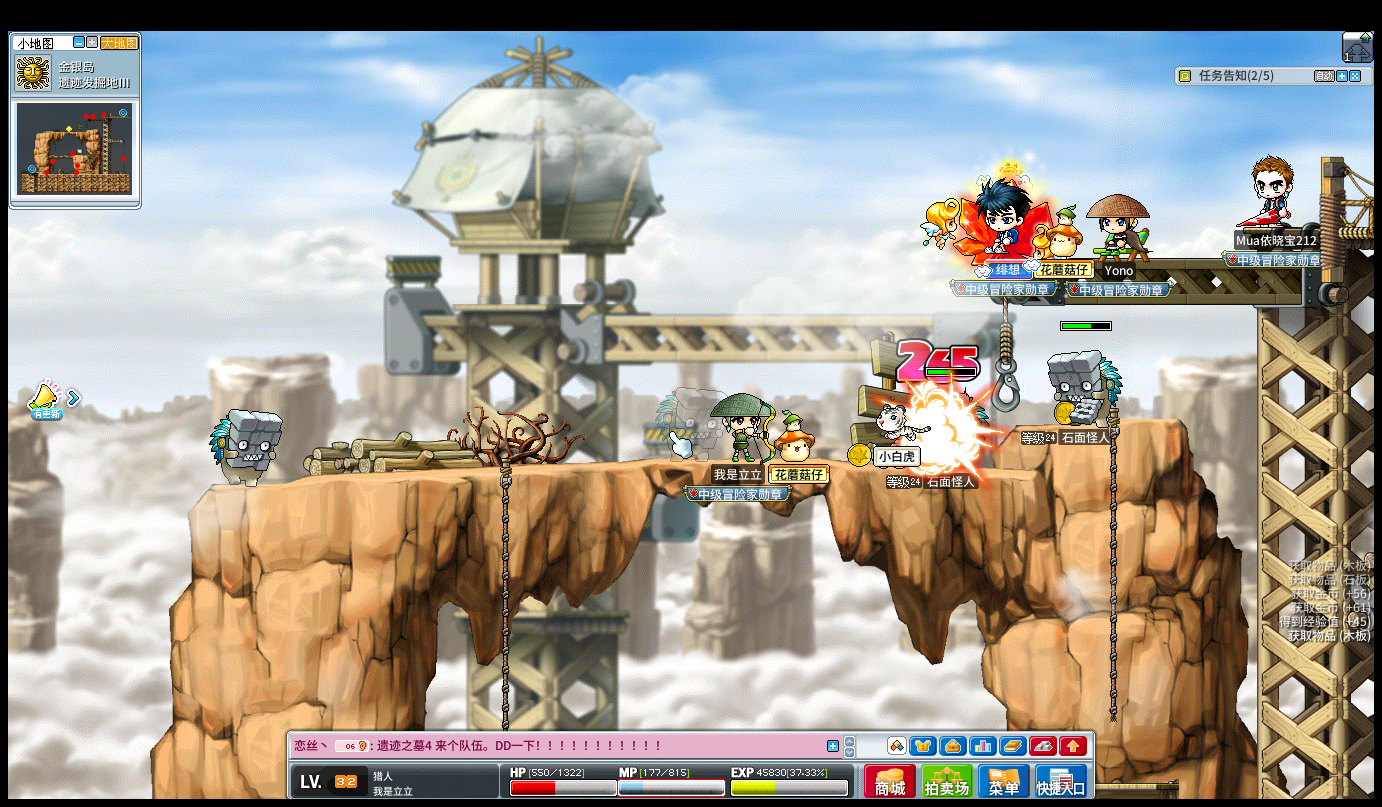floor: (215, 453, 1091, 481), (1018, 417, 1182, 431)
monster: (208, 409, 283, 487), (1047, 348, 1123, 424), (649, 383, 714, 460)
rope: (1105, 410, 1120, 739), (496, 455, 510, 768), (499, 455, 511, 668)
